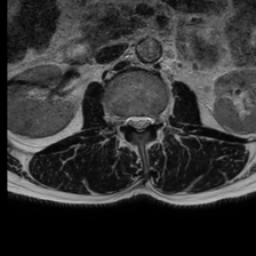CCS_normal: (135, 107, 144, 138)
LFS_normal: (152, 107, 161, 130)
LLS_normal: (144, 107, 152, 133)
RFS_normal: (119, 107, 127, 132)
RLS_normal: (127, 108, 135, 135)
